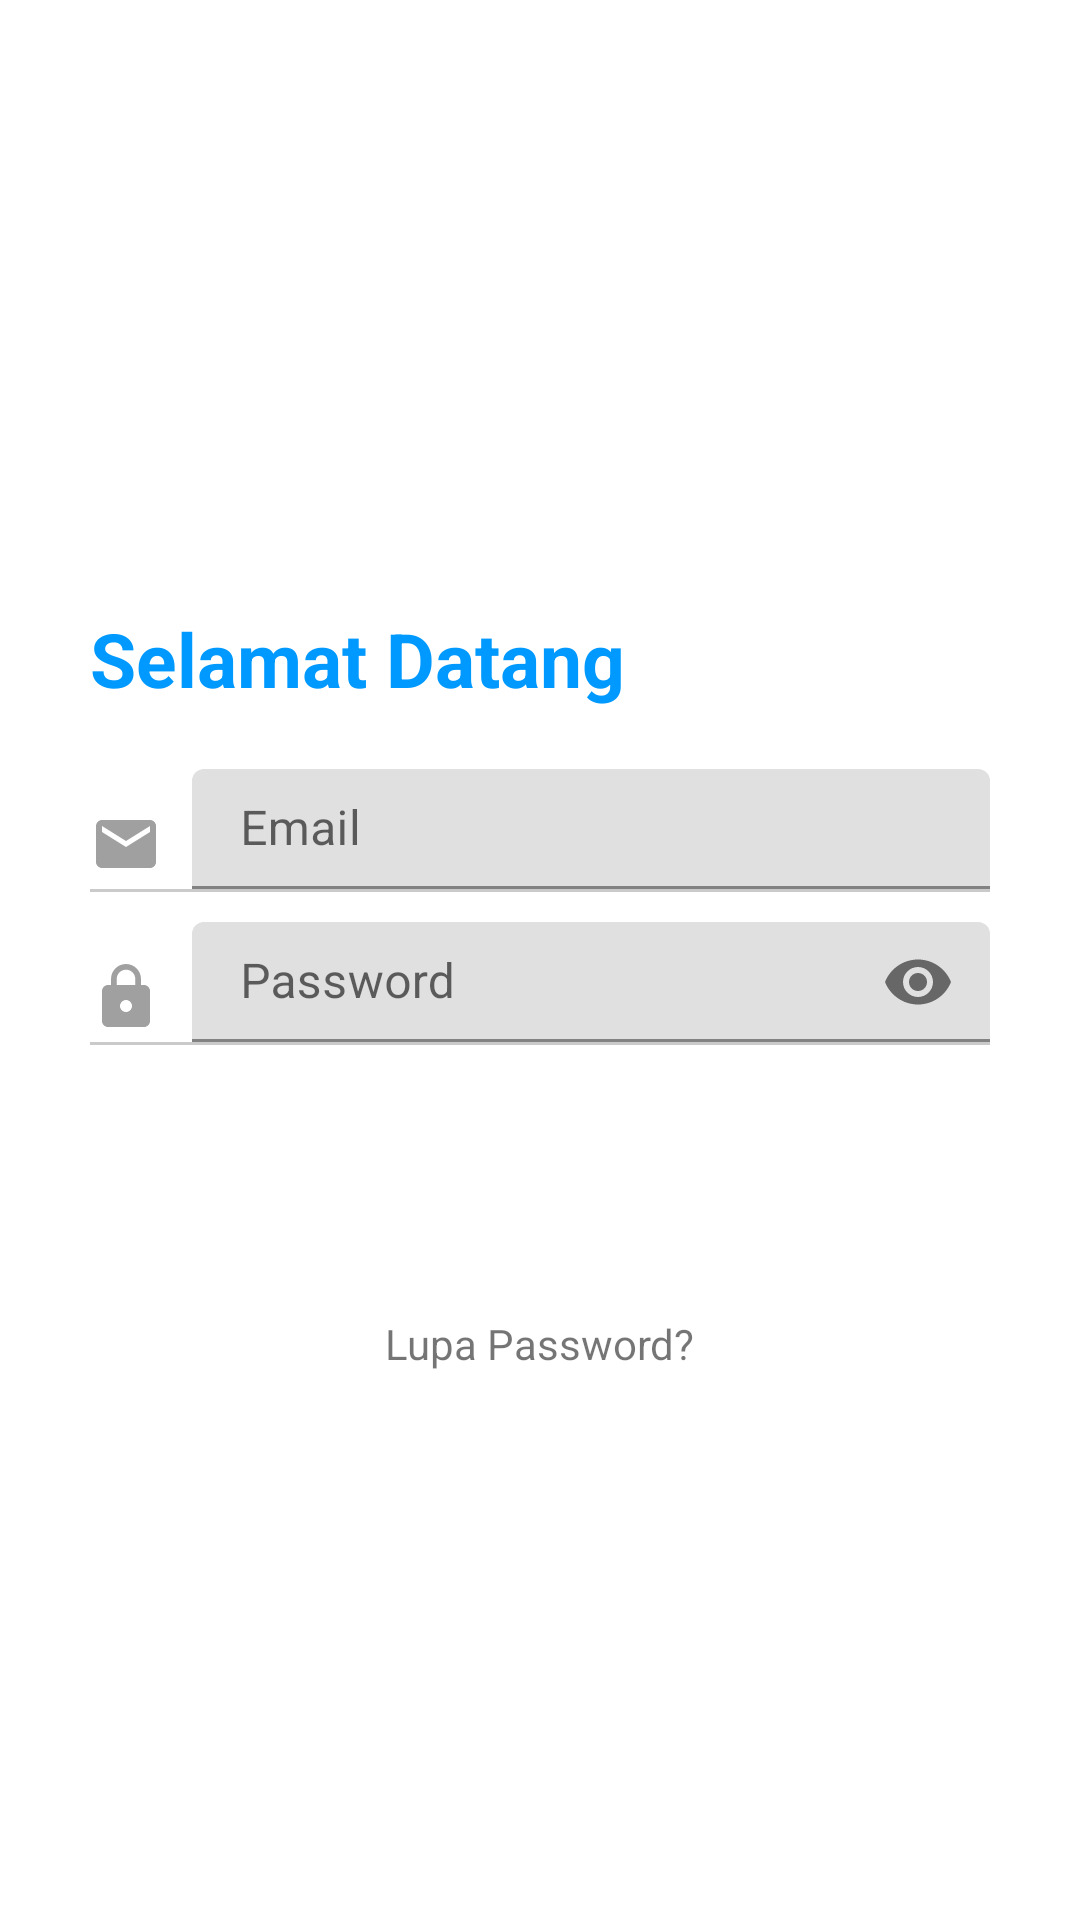

Screen size 1080px×1920px. Icon name, then its box in pixels as (x1, y1, x2, y2):
lock: (102, 964, 150, 1027)
